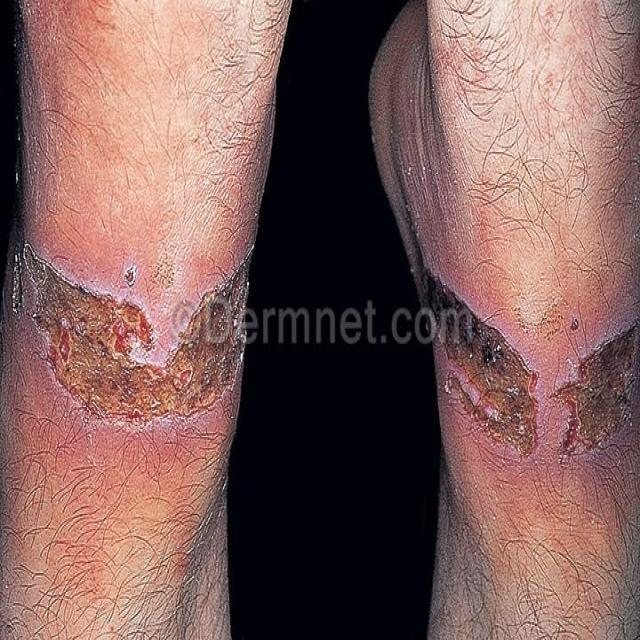Eczema: (0, 214, 258, 434), (402, 232, 640, 448)
